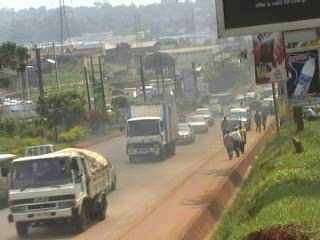Car: (187, 112, 211, 136), (192, 106, 217, 127), (177, 120, 196, 147), (204, 103, 227, 122)
Motorcycle: (177, 108, 188, 126)
